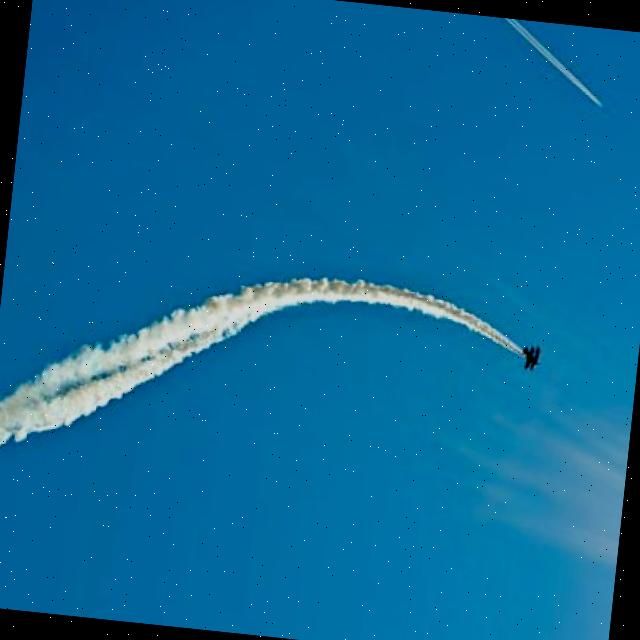Ct: (1, 234, 555, 511)
